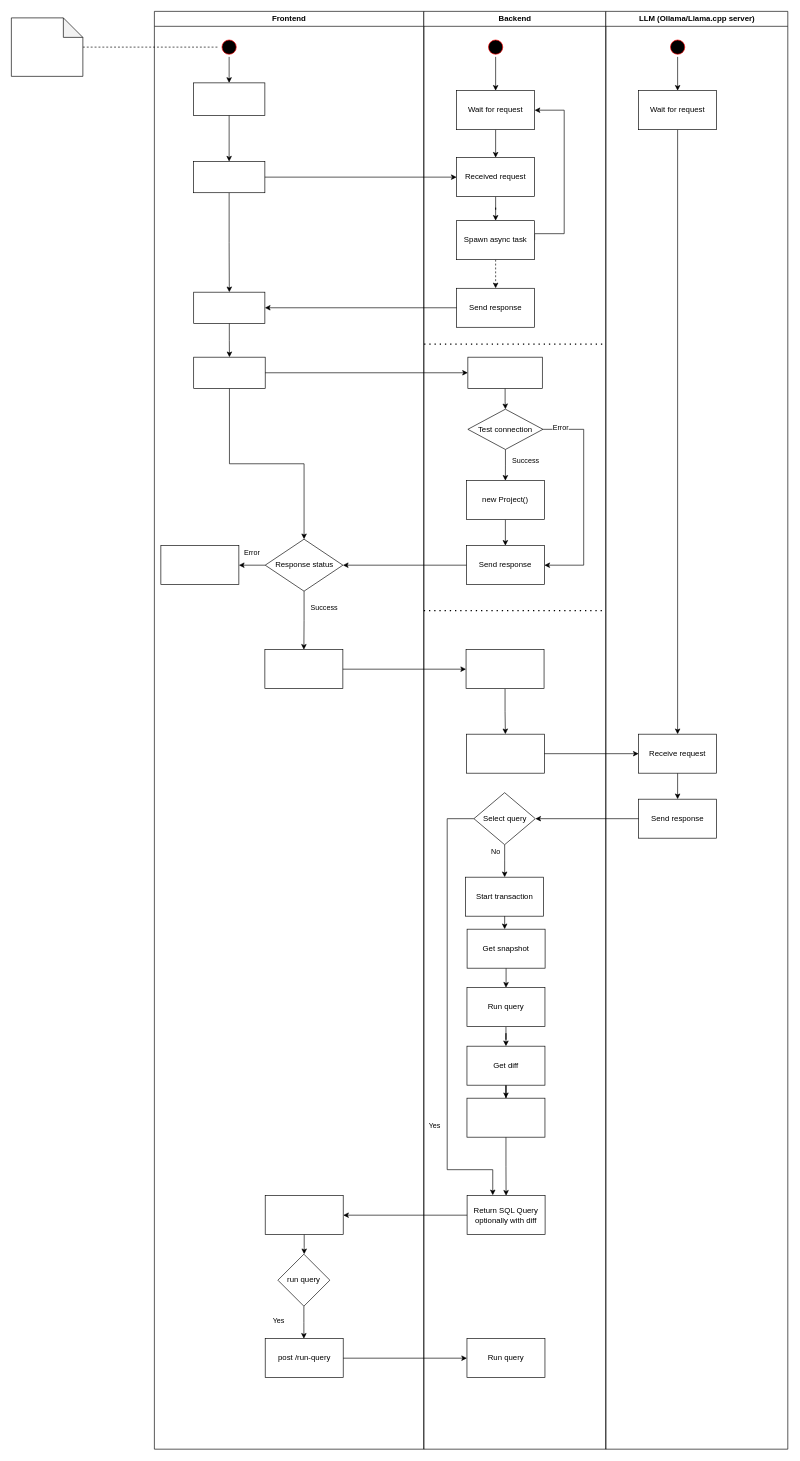
Image size: 800x1461. Some labels were removed from this diagram. Here are the shapes that lost their labels. From the top down, the centre of each, then its label:
the point at 47,46: User visits website
the point at 229,98: Login
the point at 229,177: post /login
the point at 229,307: Receive JWT token
the point at 229,372: post /project
the point at 504,372: new ConnectionDB()
the point at 199,565: Display error panel
the point at 303,669: post /ask-sql
the point at 504,669: Prepare prompt with database schema as context
the point at 505,753: post /chat/completion
the point at 505,1117: Abort
the point at 304,1215: User decides if to run query
